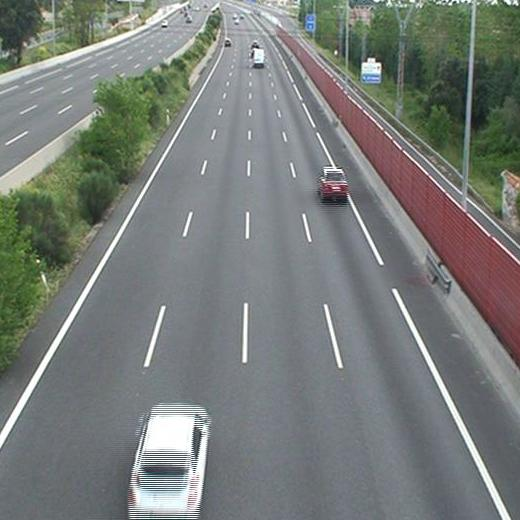car: (129, 406, 207, 515), (319, 169, 348, 196), (224, 39, 233, 48)
van: (253, 48, 264, 67)
